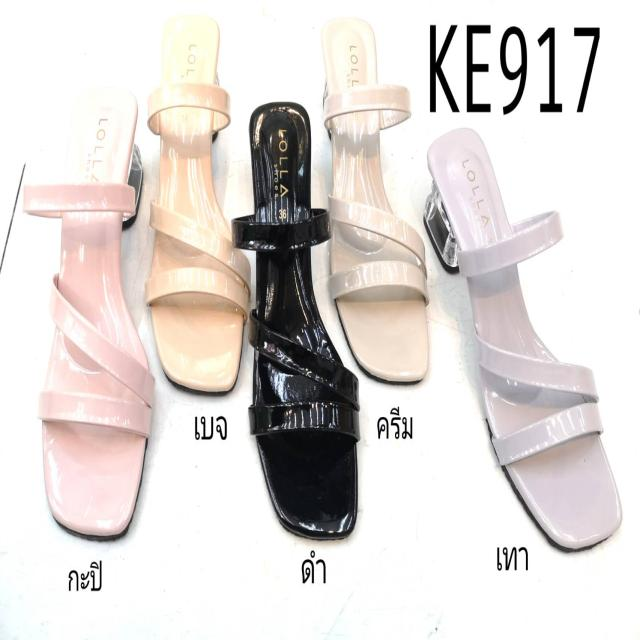bej: (150, 19, 245, 395)
black: (249, 100, 358, 536)
cream: (319, 16, 432, 384)
grey: (432, 127, 618, 548)
kapi: (39, 100, 148, 538)
